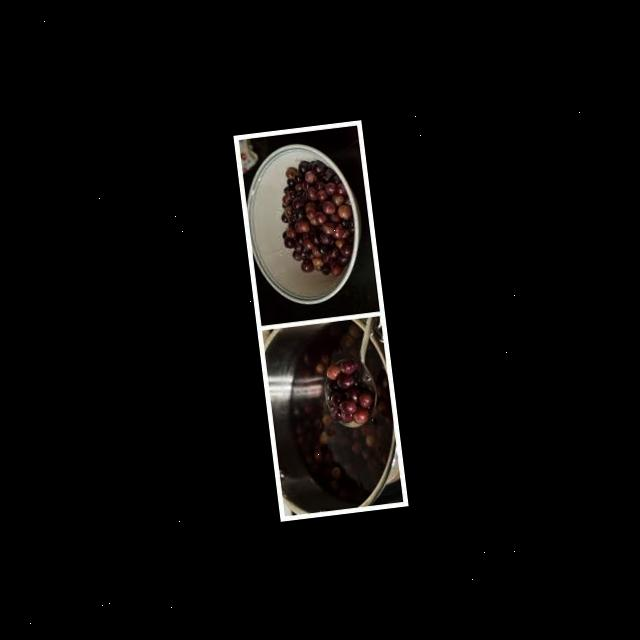grape: (272, 156, 358, 282)
